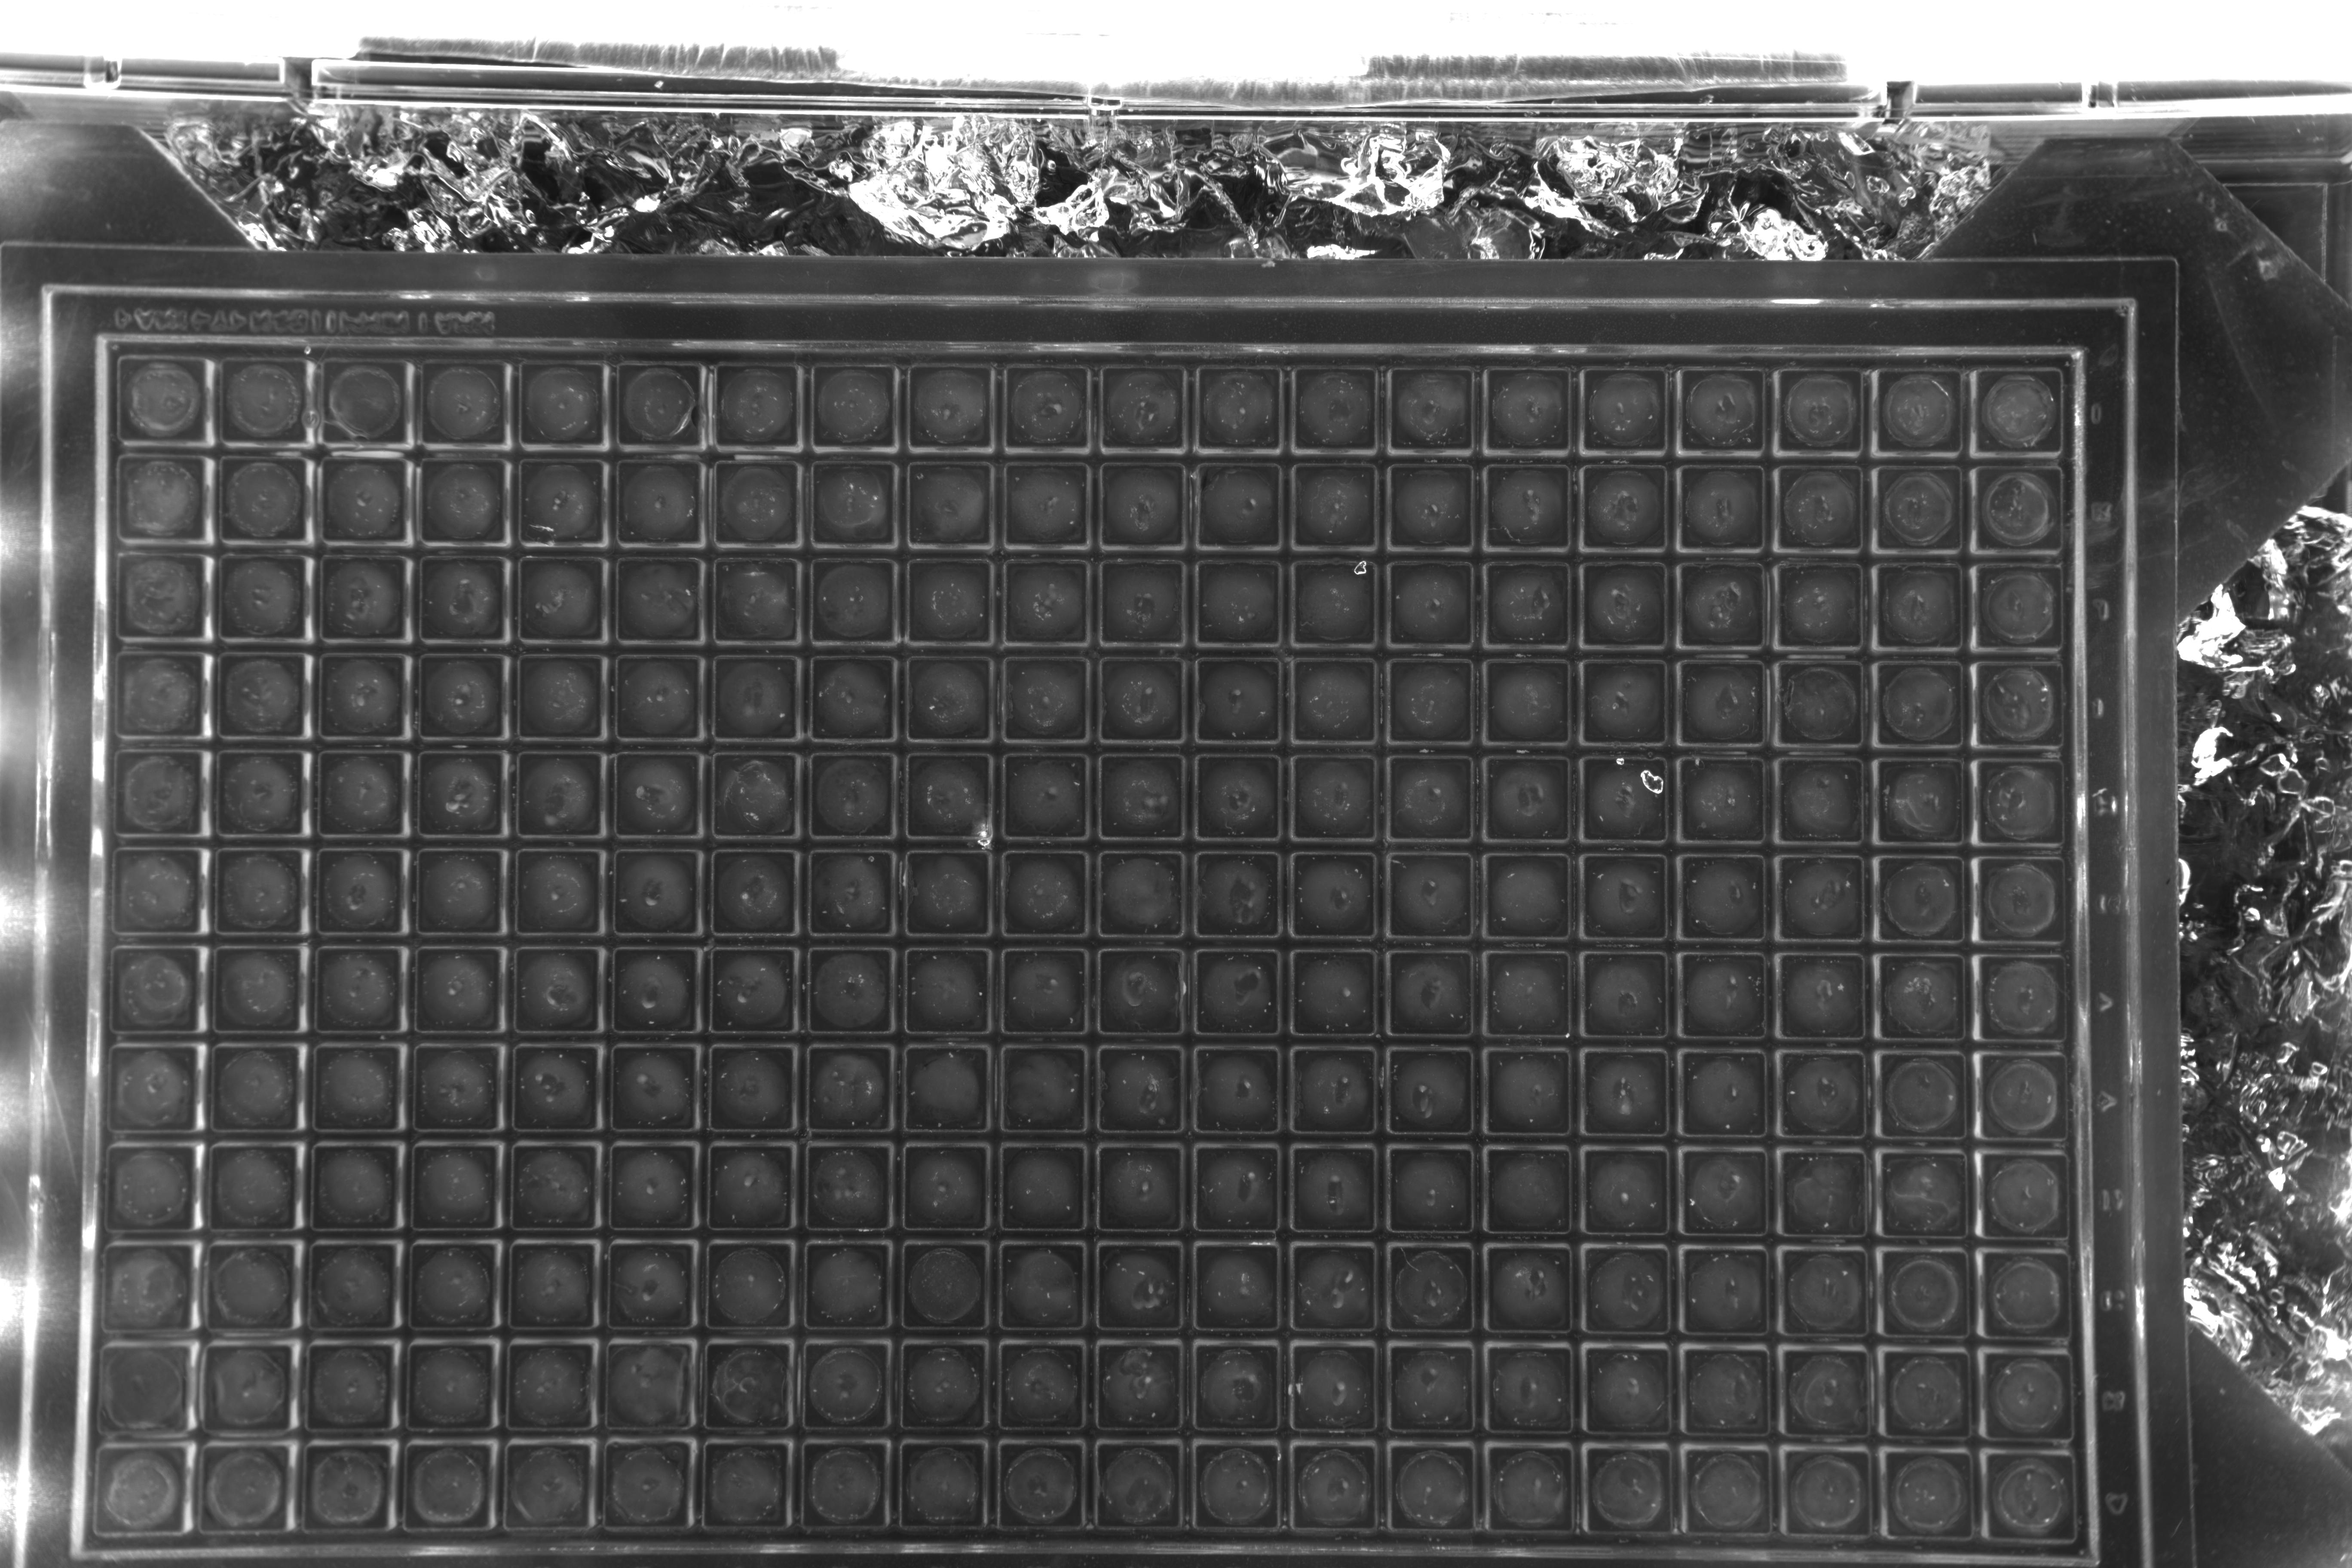WM_well: (2063, 1351, 2152, 1440), (201, 845, 290, 933), (203, 651, 292, 738), (297, 945, 387, 1032), (299, 845, 388, 933), (395, 945, 485, 1032), (397, 847, 486, 934), (399, 651, 488, 738), (492, 1043, 581, 1130), (493, 945, 583, 1032), (495, 847, 584, 934), (497, 266, 586, 353), (497, 362, 586, 450), (497, 556, 586, 644), (497, 653, 586, 740), (588, 1143, 677, 1230), (590, 1043, 679, 1130), (591, 945, 681, 1032), (595, 460, 684, 548), (688, 1043, 777, 1130), (689, 947, 779, 1034), (691, 751, 780, 838), (786, 1043, 875, 1130), (789, 268, 878, 355), (789, 364, 878, 451), (789, 462, 878, 549), (789, 558, 878, 646), (885, 850, 975, 938), (980, 1141, 1069, 1228), (982, 947, 1071, 1034), (1176, 850, 1265, 938), (1666, 1346, 1755, 1433), (1862, 1052, 1951, 1139), (1864, 1249, 1953, 1337), (2061, 1153, 2151, 1241), (191, 1342, 278, 1430), (192, 1242, 280, 1330), (194, 1143, 282, 1230), (198, 1043, 285, 1130), (199, 945, 287, 1032), (203, 747, 290, 835), (205, 262, 292, 350), (205, 553, 292, 640), (205, 360, 292, 448), (205, 457, 292, 544), (289, 1342, 376, 1430), (290, 1242, 378, 1330), (294, 1143, 381, 1230), (296, 1043, 383, 1130), (301, 749, 388, 836), (303, 264, 390, 352), (303, 555, 390, 642), (303, 651, 390, 738), (303, 360, 390, 448), (303, 457, 390, 544), (388, 1340, 476, 1428), (390, 1242, 478, 1330), (392, 1143, 479, 1230), (394, 1043, 481, 1130), (399, 749, 486, 836), (401, 264, 488, 352), (401, 360, 488, 448), (401, 458, 488, 546), (401, 555, 488, 642), (486, 1340, 574, 1428), (488, 1241, 576, 1328), (490, 1143, 577, 1230), (497, 749, 584, 836), (499, 458, 586, 546), (586, 1340, 674, 1428), (588, 1241, 675, 1328), (593, 847, 681, 934), (595, 751, 682, 838), (595, 266, 682, 353), (595, 362, 682, 450), (595, 556, 682, 644), (595, 653, 682, 740), (684, 1339, 772, 1426), (686, 1241, 773, 1328), (688, 1141, 775, 1228), (691, 849, 779, 936), (693, 654, 780, 742), (693, 268, 780, 355), (693, 364, 780, 451), (693, 460, 780, 548), (693, 558, 780, 646), (782, 1339, 870, 1426), (784, 1239, 871, 1326), (786, 1141, 873, 1228), (787, 947, 875, 1034), (789, 849, 877, 936), (789, 654, 877, 742), (789, 752, 877, 840), (882, 1337, 969, 1424), (882, 1239, 969, 1326), (884, 1141, 971, 1228), (884, 1045, 971, 1132), (885, 947, 973, 1034), (887, 462, 975, 549), (887, 558, 975, 646), (887, 656, 975, 744), (887, 752, 975, 840), (887, 269, 975, 357), (887, 366, 975, 453), (980, 1337, 1067, 1424), (980, 1239, 1067, 1326), (982, 1045, 1069, 1132), (983, 464, 1071, 551), (983, 560, 1071, 647), (983, 656, 1071, 744), (983, 752, 1071, 840), (983, 850, 1071, 938), (983, 269, 1071, 357), (983, 366, 1071, 453), (1078, 1337, 1165, 1424), (1078, 1141, 1165, 1228), (1078, 1239, 1165, 1326), (1080, 1045, 1167, 1132), (1080, 464, 1167, 551), (1080, 560, 1167, 647), (1080, 947, 1167, 1034), (1080, 269, 1167, 357), (1080, 367, 1167, 455), (1080, 656, 1167, 744), (1080, 754, 1167, 842), (1080, 850, 1167, 938), (1176, 1339, 1263, 1426), (1176, 269, 1263, 357), (1176, 367, 1263, 455), (1176, 464, 1263, 551), (1176, 1143, 1263, 1230), (1176, 1241, 1263, 1328), (1176, 560, 1263, 647), (1176, 656, 1263, 744), (1176, 754, 1263, 842), (1176, 947, 1263, 1034), (1176, 1045, 1263, 1132), (1272, 269, 1360, 357), (1272, 367, 1360, 455), (1272, 464, 1360, 551), (1272, 560, 1360, 647), (1272, 656, 1360, 744), (1274, 754, 1361, 842), (1274, 850, 1361, 938), (1274, 948, 1361, 1036), (1274, 1339, 1361, 1426), (1274, 1045, 1361, 1132), (1274, 1143, 1361, 1230), (1274, 1241, 1361, 1328), (1368, 269, 1456, 357), (1368, 367, 1456, 455), (1368, 464, 1456, 551), (1368, 560, 1456, 647), (1370, 656, 1458, 744), (1370, 754, 1458, 842), (1370, 850, 1458, 938), (1370, 948, 1458, 1036), (1370, 1046, 1458, 1134), (1372, 1144, 1459, 1232), (1372, 1242, 1459, 1330), (1372, 1340, 1459, 1428), (1465, 269, 1552, 357), (1465, 367, 1552, 455), (1465, 464, 1552, 551), (1466, 560, 1554, 647), (1466, 656, 1554, 744), (1466, 754, 1554, 842), (1466, 850, 1554, 938), (1468, 948, 1556, 1036), (1468, 1046, 1556, 1134), (1468, 1144, 1556, 1232), (1470, 1244, 1557, 1332), (1470, 1342, 1557, 1430), (1561, 269, 1648, 357), (1563, 366, 1650, 453), (1563, 464, 1650, 551), (1563, 560, 1650, 647), (1564, 656, 1652, 744), (1564, 754, 1652, 842), (1564, 850, 1652, 938), (1566, 948, 1654, 1036), (1566, 1048, 1654, 1136), (1568, 1146, 1655, 1234), (1568, 1244, 1655, 1332), (1568, 1344, 1655, 1431), (1659, 269, 1746, 357), (1661, 366, 1748, 453), (1661, 464, 1748, 551), (1661, 560, 1748, 647), (1662, 656, 1750, 744), (1662, 754, 1750, 842), (1662, 852, 1750, 940), (1664, 950, 1752, 1038), (1664, 1048, 1752, 1136), (1666, 1148, 1753, 1235), (1666, 1246, 1753, 1333), (1759, 268, 1846, 355), (1759, 366, 1846, 453), (1759, 464, 1846, 551), (1760, 560, 1848, 647), (1760, 658, 1848, 745), (1760, 754, 1848, 842), (1762, 852, 1850, 940), (1762, 950, 1850, 1038), (1764, 1050, 1851, 1137), (1764, 1150, 1851, 1237), (1766, 1248, 1853, 1335), (1766, 1347, 1853, 1435), (1857, 268, 1944, 355), (1857, 366, 1944, 453), (1858, 462, 1946, 549), (1858, 560, 1946, 647), (1858, 658, 1946, 745), (1860, 756, 1948, 843), (1860, 854, 1948, 941), (1862, 952, 1949, 1039), (1864, 1150, 1951, 1237), (1865, 1349, 1953, 1437), (1956, 268, 2044, 355), (1956, 366, 2044, 453), (1956, 462, 2044, 549), (1956, 560, 2044, 647), (1958, 658, 2046, 745), (1960, 756, 2047, 843), (1960, 854, 2047, 941), (1962, 954, 2049, 1041), (1962, 1052, 2049, 1139), (1963, 1151, 2051, 1239), (1963, 1251, 2051, 1339), (1965, 1351, 2053, 1438), (2054, 268, 2142, 355), (2054, 366, 2142, 453), (2056, 464, 2144, 551), (2056, 560, 2144, 647), (2058, 658, 2145, 745), (2058, 758, 2145, 845), (2060, 856, 2147, 943), (2060, 954, 2147, 1041), (2061, 1053, 2149, 1141), (2063, 1253, 2151, 1340)
